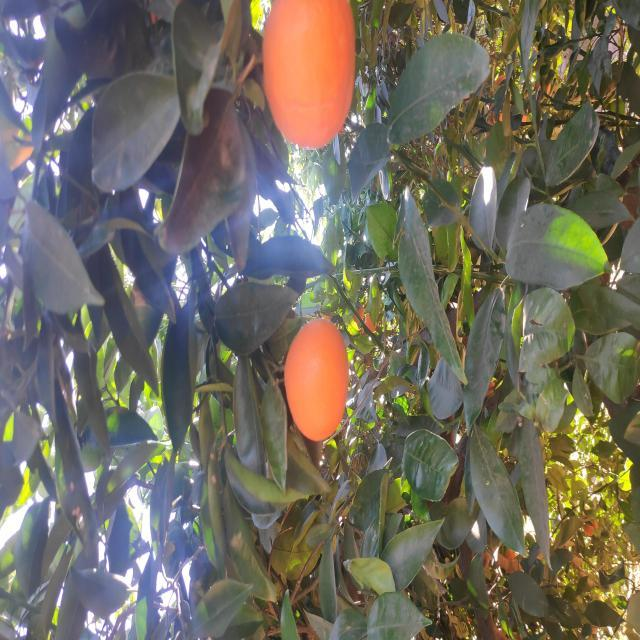Jeruk Sudah Matang: (492, 262, 640, 356), (202, 284, 324, 348)
